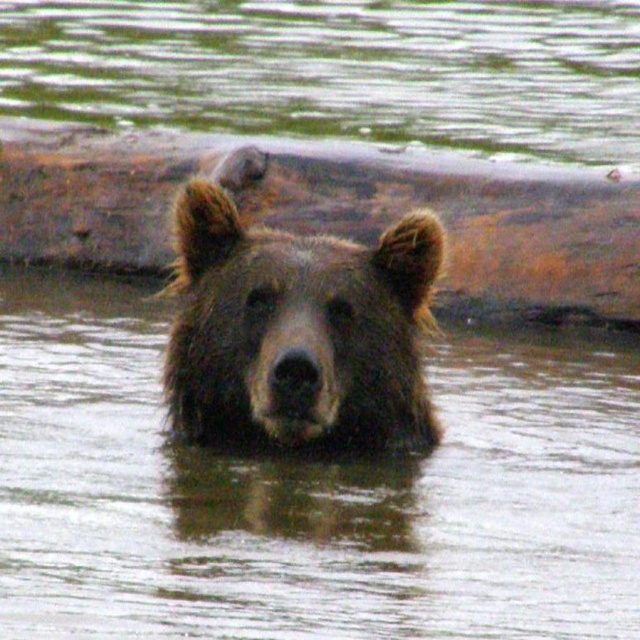Brown bear: (135, 179, 445, 461)
